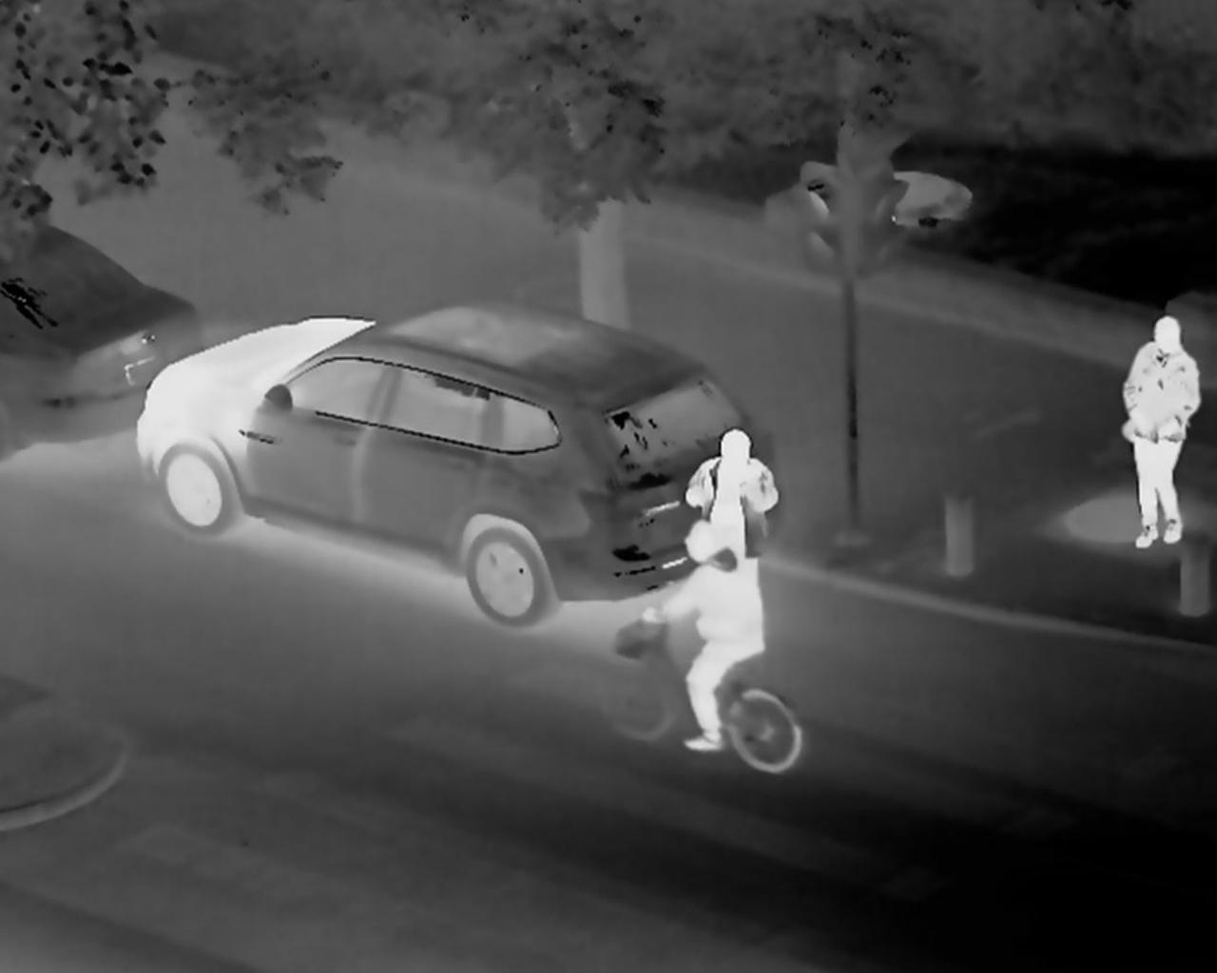person: (1097, 317, 1212, 569), (637, 537, 761, 733), (661, 449, 809, 544)
